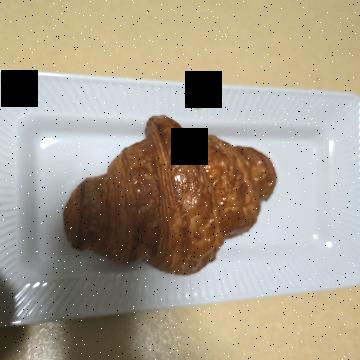croissant: (100, 76, 295, 309)
